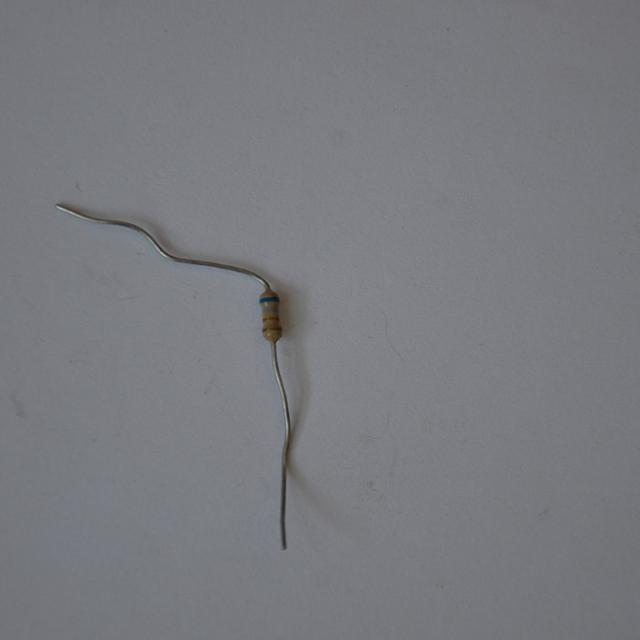blue: (261, 297, 277, 302)
gold: (262, 326, 282, 331), (263, 316, 279, 321)
grey: (263, 307, 277, 312)
resistor: (251, 281, 287, 346)
